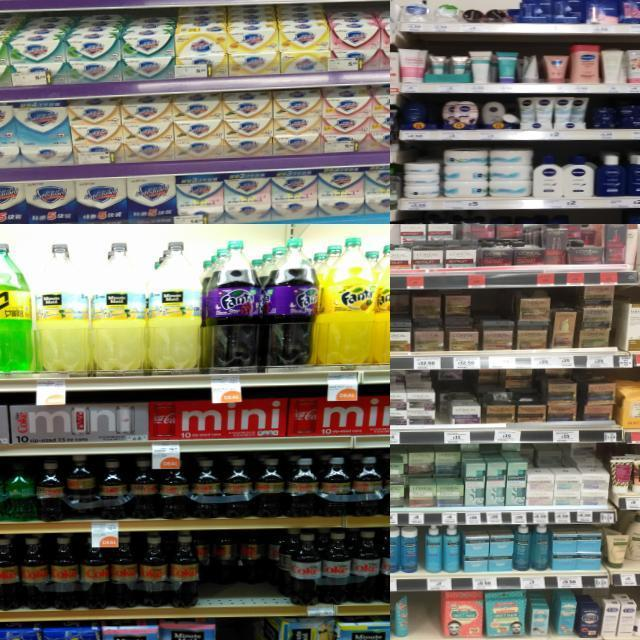empty: (408, 592, 441, 640), (574, 209, 619, 224), (218, 619, 249, 640)
